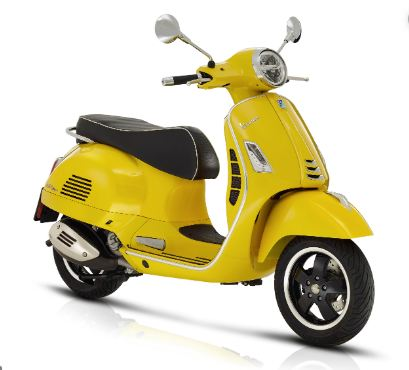bike: (35, 12, 377, 352)
